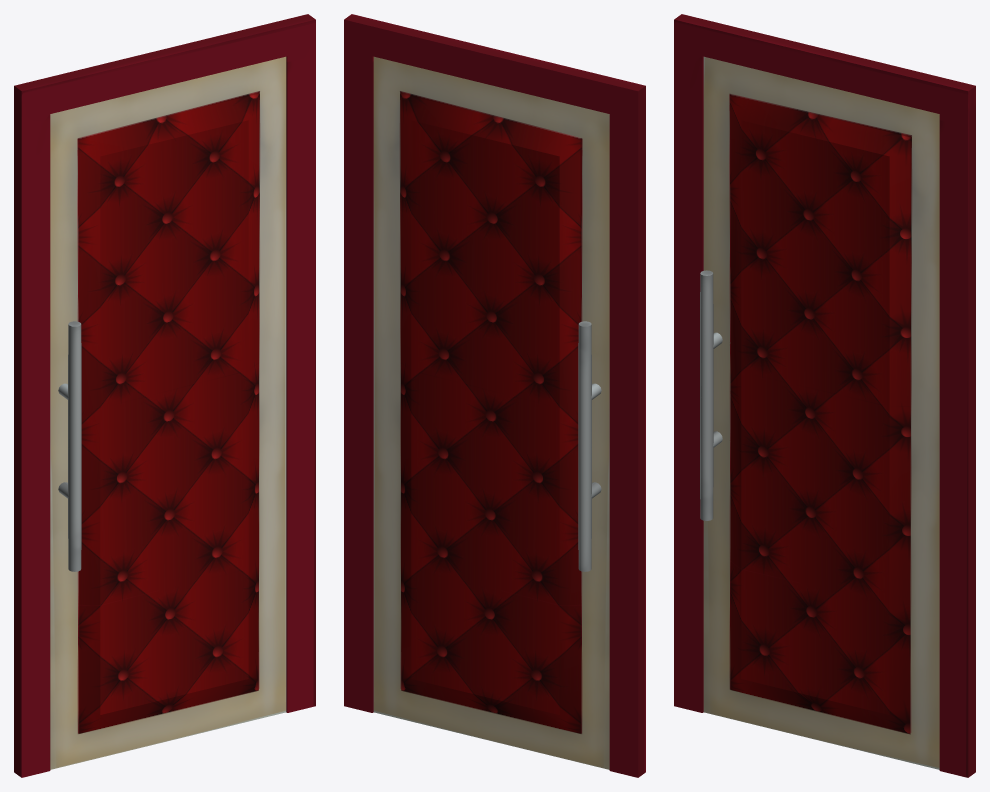
The model's file is door02 1.fbx.
The picture shows the model from 3 angles, left to right: view 1: azimuth 30°, elevation 25°; view 2: azimuth 150°, elevation 25°; view 3: azimuth 330°, elevation 25°; orthographic projection.
Visible parts, largest first — view 1: Object001, Plane2714; view 2: Object001, Plane2714; view 3: Object001, Plane2714.
Boxes of the visible parts, x1,y1,x2,y2 form: Object001: (50,56,286,769); Plane2714: (14,14,315,777); Object001: (373,56,609,769); Plane2714: (344,14,645,777); Object001: (700,56,939,769); Plane2714: (674,14,975,777).
Size of the model in its own units: 312 by 696 by 64.25.
